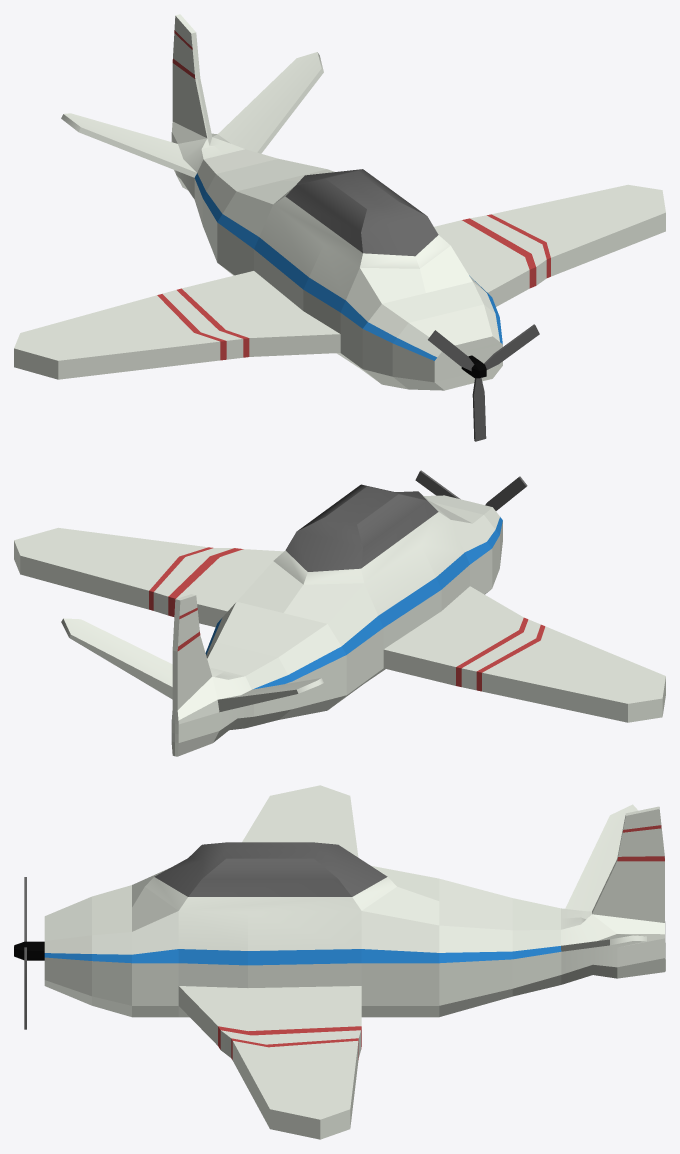
The model's file is animated_plane_model.fbx.
3 renders of one model, top to bottom at view 1: azimuth 30°, elevation 25°; view 2: azimuth 150°, elevation 25°; view 3: azimuth 270°, elevation 25°, orthographic. The views are drawn at different scales.
Parts seen in each view (by area): view 1: polySurface6, polySurface2; view 2: polySurface6, polySurface2; view 3: polySurface6.
Boxes of the visible parts, box(x1,y1,x2,y2) form: polySurface6: box(14, 14, 665, 390); polySurface2: box(428, 324, 539, 441); polySurface6: box(14, 484, 665, 756); polySurface2: box(415, 470, 527, 510); polySurface6: box(14, 785, 665, 1139).
Size of the model in its own units: 8.41 by 2.56 by 6.93.
Materials: 1 (1 with a texture image).
